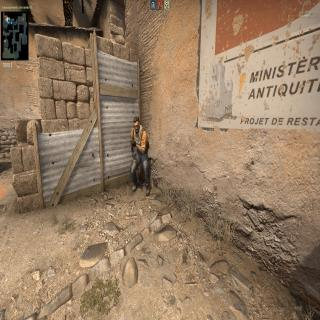T-Head: (132, 112, 141, 136)
